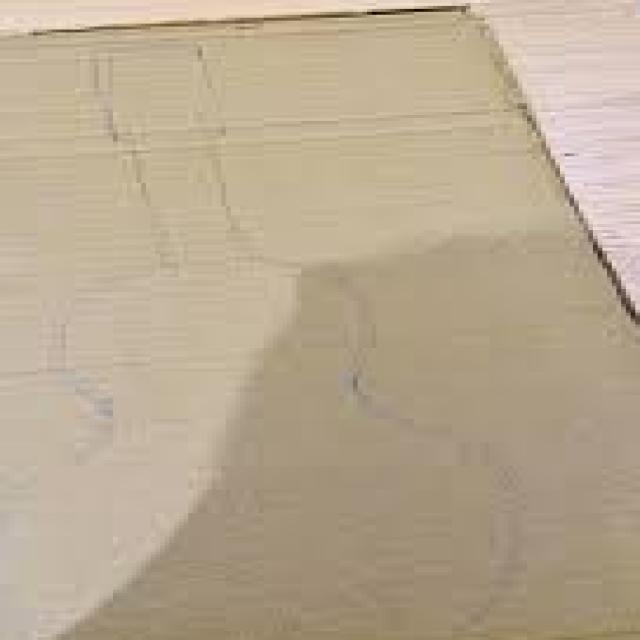organic: (4, 11, 637, 632)
